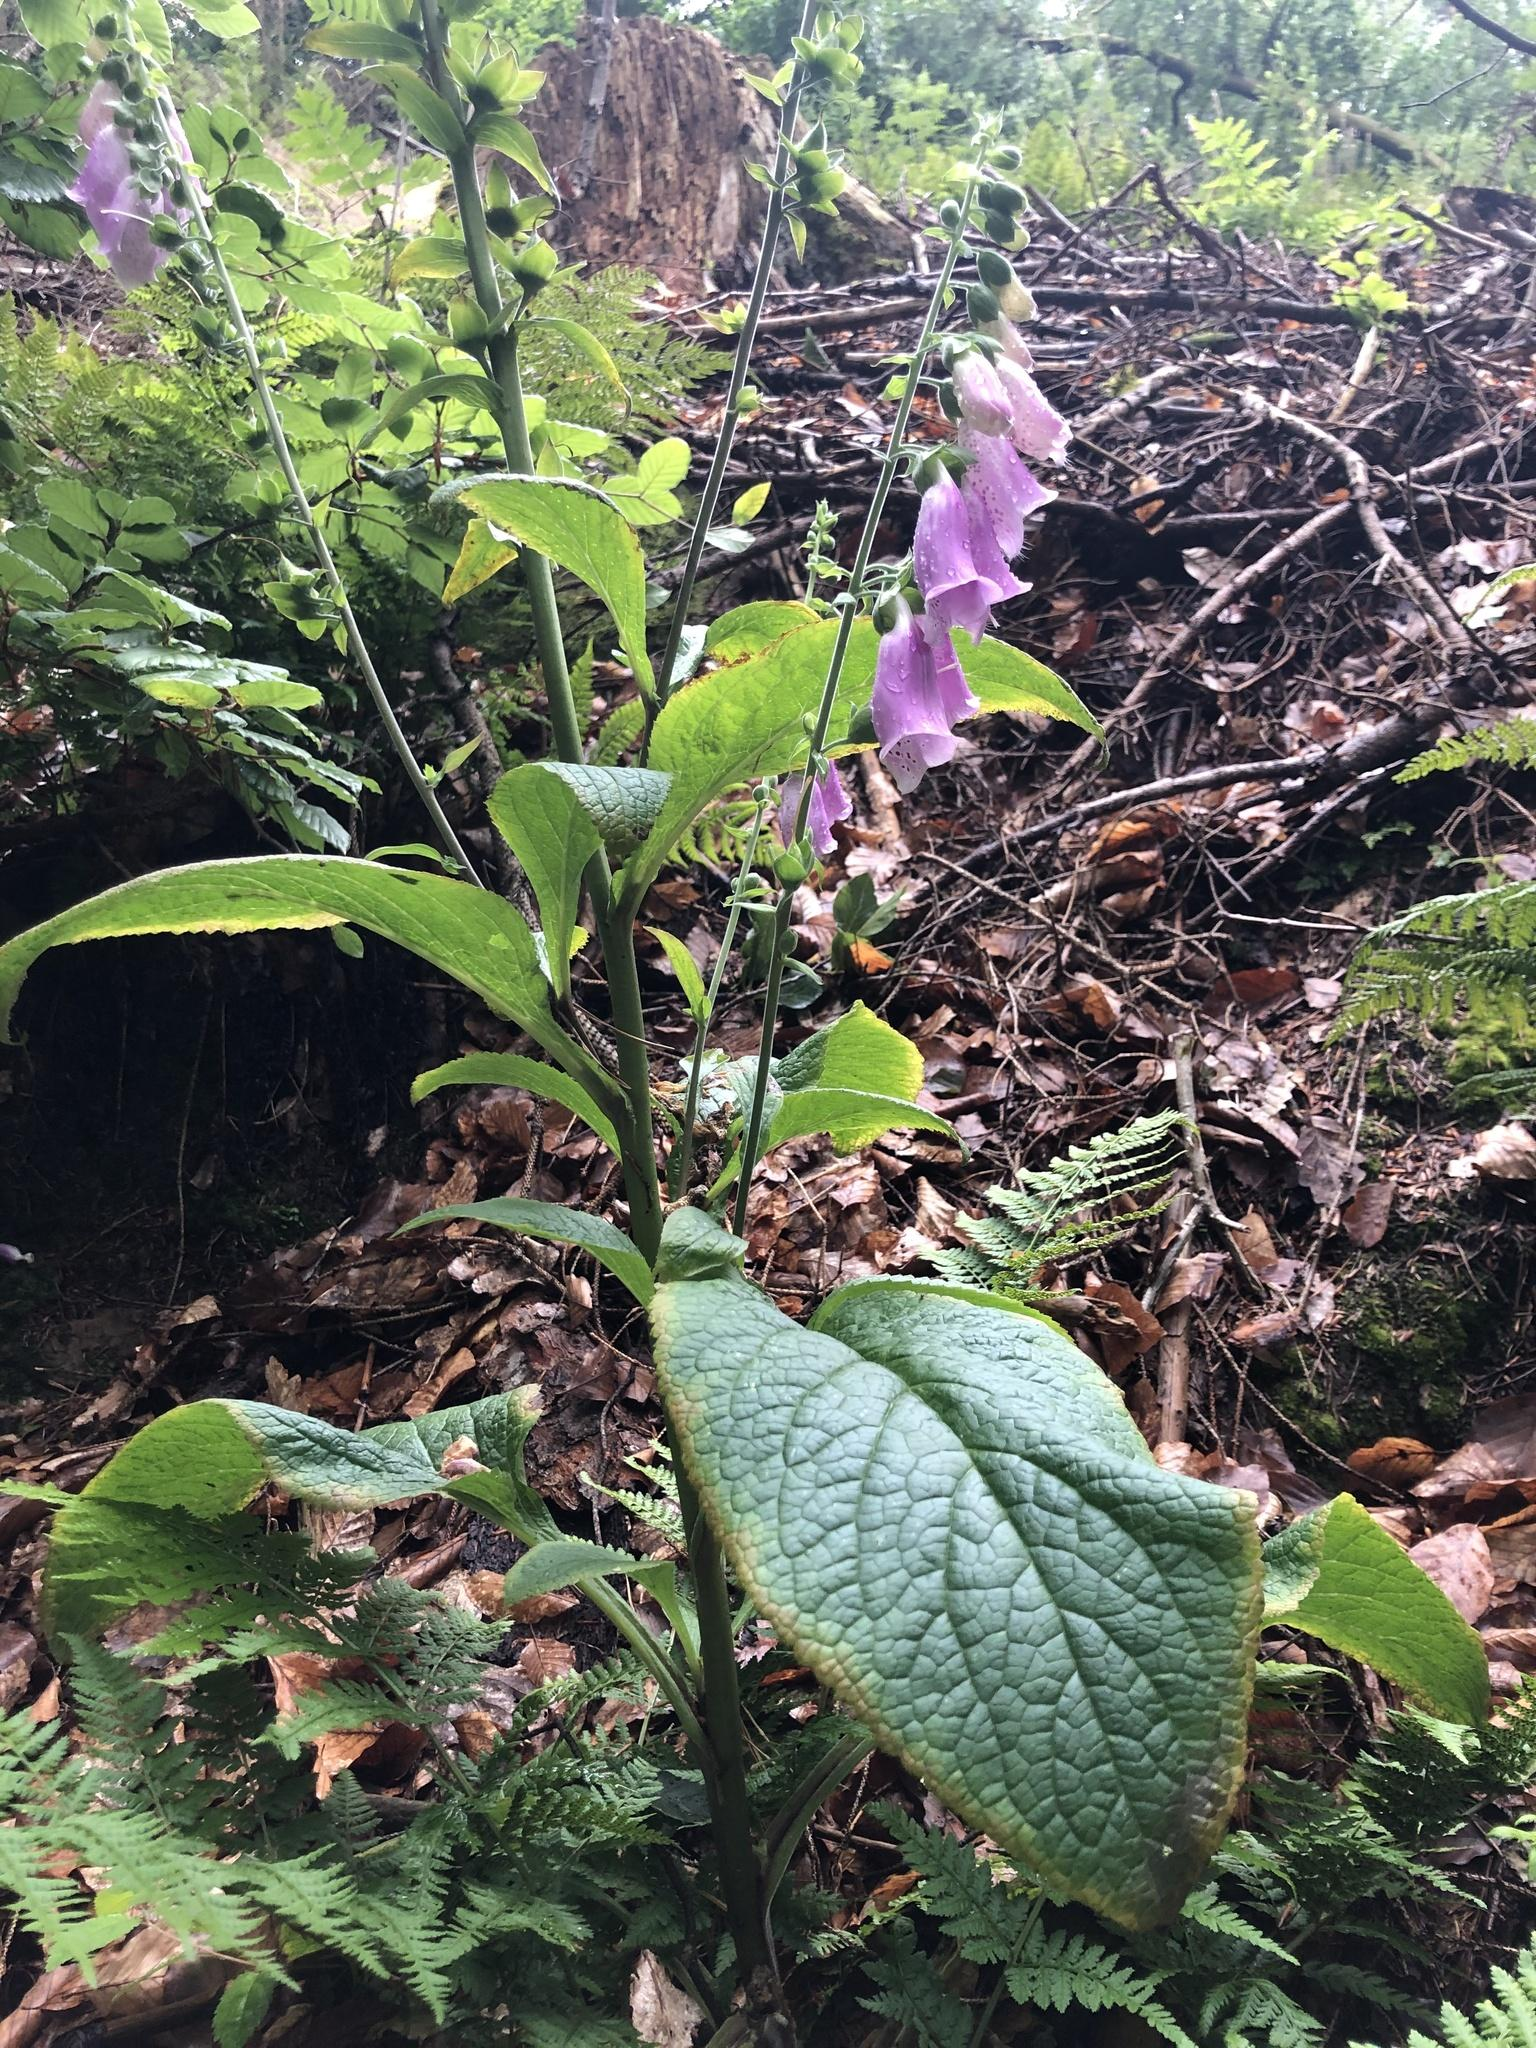Digitalis L: (774, 131, 1099, 874), (60, 50, 224, 302)
